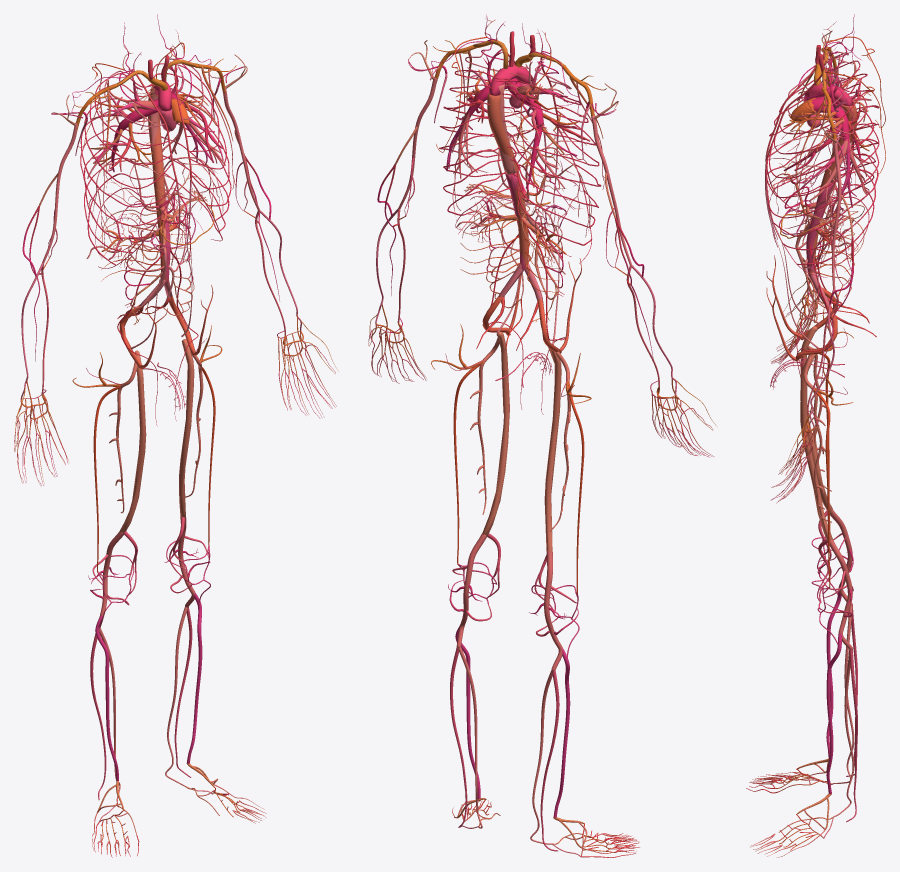
Rendered from body-arteries.lod1.glb.
3 renders of one model, left to right at view 1: azimuth 30°, elevation 25°; view 2: azimuth 150°, elevation 25°; view 3: azimuth 270°, elevation 25°, orthographic. The views are drawn at different scales.
Parts seen in each view (by area): view 1: posterior-intercostal-arteries, set-of-dorsal-digital-arteries, femoral-artery-l, femoral-artery-r, descending-aorta, set-of-perforating-arteries, anterior-tibial-artery-l, anterior-tibial-artery-r; view 2: posterior-intercostal-arteries, set-of-dorsal-digital-arteries, femoral-artery-r, femoral-artery-l, descending-aorta, set-of-perforating-arteries, anterior-tibial-artery-r, popliteal-artery-r, popliteal-artery-l, anterior-tibial-artery-l; view 3: posterior-intercostal-arteries, set-of-dorsal-digital-arteries, femoral-artery-l, set-of-perforating-arteries, femoral-artery-r, anterior-tibial-artery-l, abdominal-aorta, popliteal-artery-l, descending-aorta, anterior-tibial-artery-r, brachial-artery-l, descending-branch-of-lateral-circumflex-femoral-artery-l (+18 smaller).
Part boxes in pixels (x1,y1,x2,y2): posterior-intercostal-arteries: (80, 63, 231, 265); set-of-dorsal-digital-arteries: (14, 344, 335, 799); femoral-artery-l: (179, 339, 194, 518); femoral-artery-r: (119, 350, 146, 534); descending-aorta: (147, 93, 168, 283); set-of-perforating-arteries: (109, 347, 203, 513); anterior-tibial-artery-l: (187, 593, 202, 763); anterior-tibial-artery-r: (95, 615, 118, 780); posterior-intercostal-arteries: (439, 70, 601, 256); set-of-dorsal-digital-arteries: (368, 330, 713, 851); femoral-artery-r: (544, 347, 561, 552); femoral-artery-l: (482, 331, 509, 536); descending-aorta: (487, 93, 528, 270); set-of-perforating-arteries: (470, 337, 570, 531); anterior-tibial-artery-r: (553, 648, 570, 817); popliteal-artery-r: (544, 550, 562, 670); popliteal-artery-l: (456, 534, 486, 647); anterior-tibial-artery-l: (455, 625, 480, 798); posterior-intercostal-arteries: (766, 60, 879, 268); set-of-dorsal-digital-arteries: (771, 298, 857, 822); femoral-artery-l: (800, 354, 832, 541); set-of-perforating-arteries: (803, 339, 831, 522); femoral-artery-r: (800, 326, 832, 513); anterior-tibial-artery-l: (826, 633, 841, 794); abdominal-aorta: (806, 182, 833, 276); popliteal-artery-l: (829, 540, 852, 649); descending-aorta: (808, 103, 857, 275); anterior-tibial-artery-r: (826, 591, 841, 758); brachial-artery-l: (832, 139, 841, 289); descending-branch-of-lateral-circumflex-femoral-artery-l: (814, 389, 830, 587).
Bounding box in the file's own units: 0.6488 × 1.5 × 0.2385.
